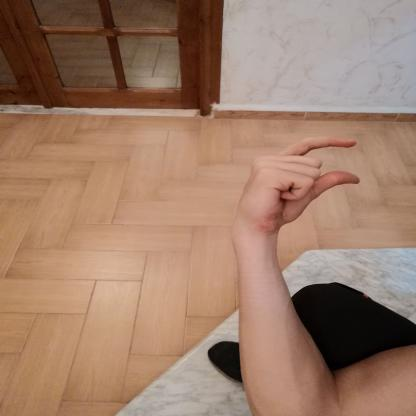DELL: (224, 126, 378, 241)
